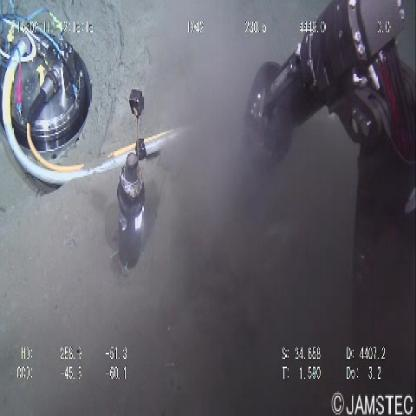Rov: (238, 2, 416, 177), (1, 2, 95, 186), (108, 82, 156, 292)
